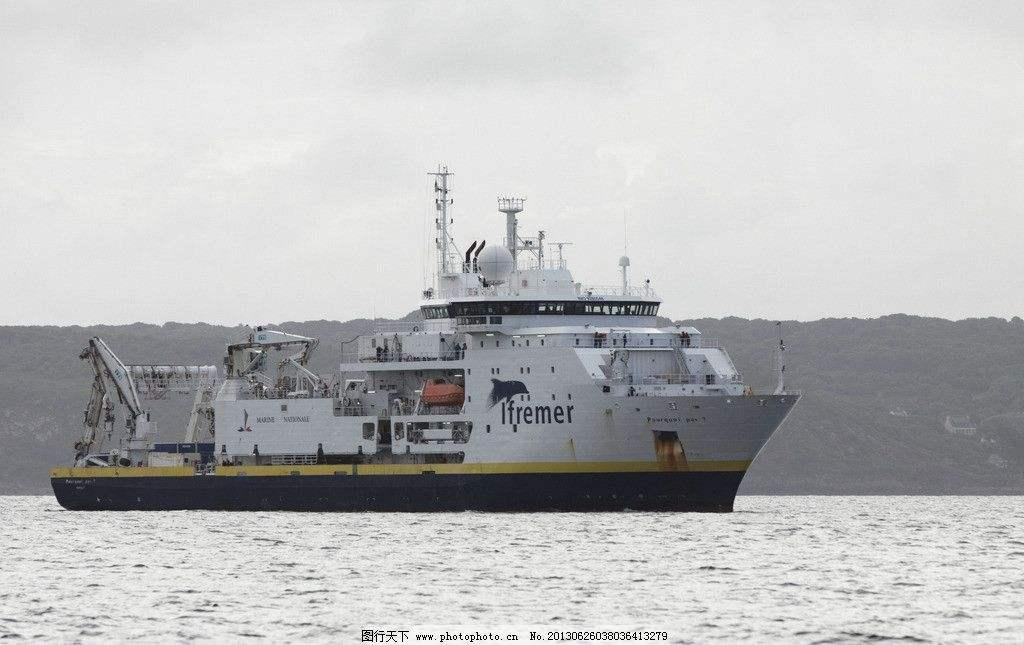Cargoship: (39, 171, 797, 518)
